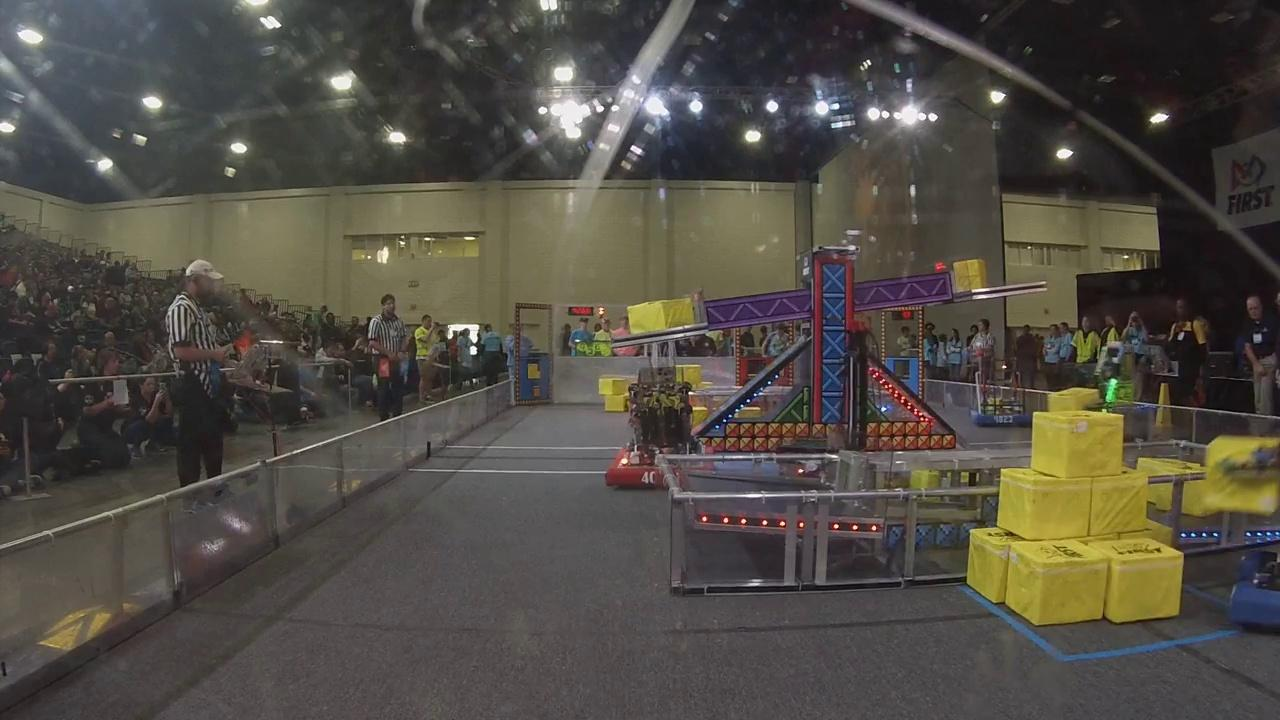robot: (607, 367, 719, 491), (965, 360, 1036, 429)
